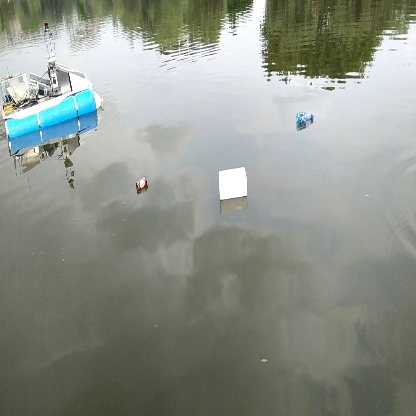bottle: (293, 108, 320, 131), (130, 172, 153, 196)
plastic-garbage: (216, 164, 251, 201)
